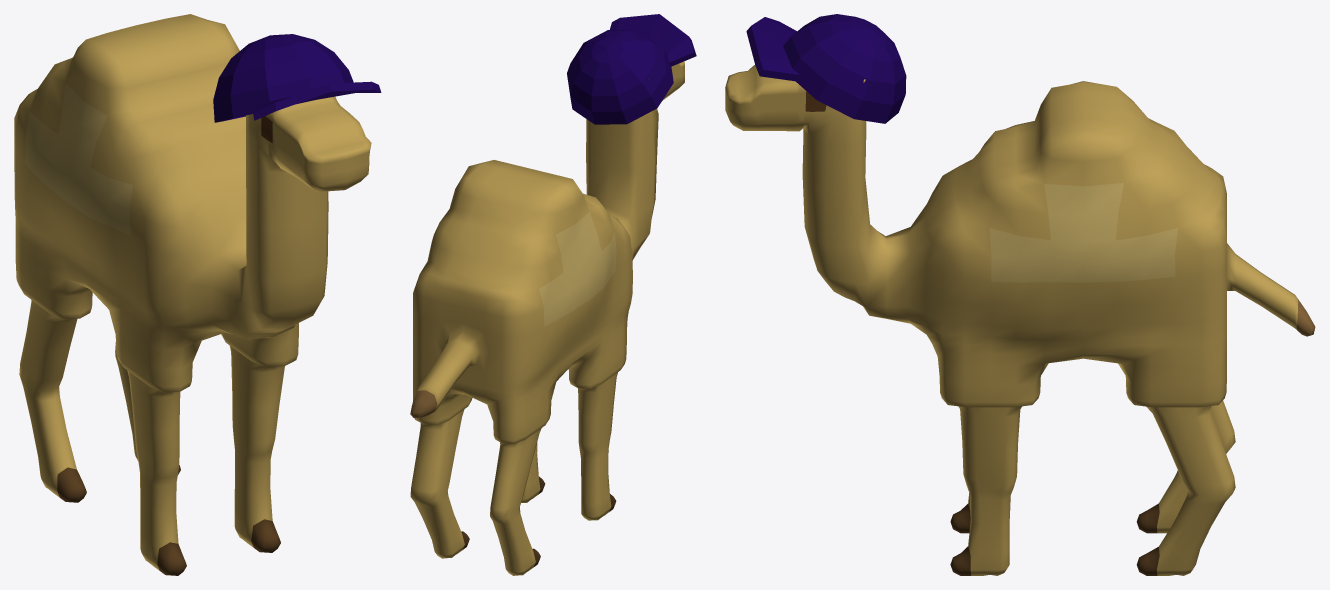
The model's file is HAT.fbx.
3 renders of one model, left to right at view 1: azimuth 30°, elevation 25°; view 2: azimuth 150°, elevation 25°; view 3: azimuth 270°, elevation 25°, orthographic. The views are drawn at different scales.
Parts seen in each view (by area): view 1: pCube1, pSphere1; view 2: pCube1, pSphere1; view 3: pCube1, pSphere1.
Boxes of the visible parts, x1=… form: pCube1: x1=14, y1=14, x2=371, y2=575; pSphere1: x1=213, y1=34, x2=381, y2=122; pCube1: x1=410, y1=61, x2=684, y2=575; pSphere1: x1=567, y1=14, x2=696, y2=124; pCube1: x1=725, y1=65, x2=1315, y2=575; pSphere1: x1=746, y1=14, x2=906, y2=123.
Bounding box in the file's own units: 5.04 × 14.57 × 14.65.
